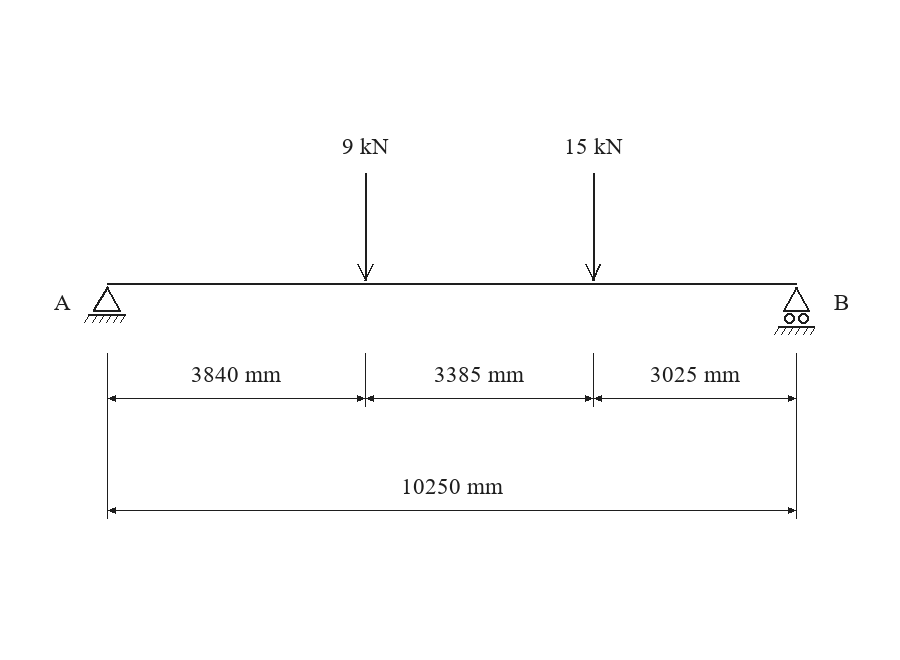pin_support: (84, 286, 126, 323)
point_load: (357, 173, 374, 281), (585, 173, 601, 281)
roller_support: (774, 287, 815, 335)
